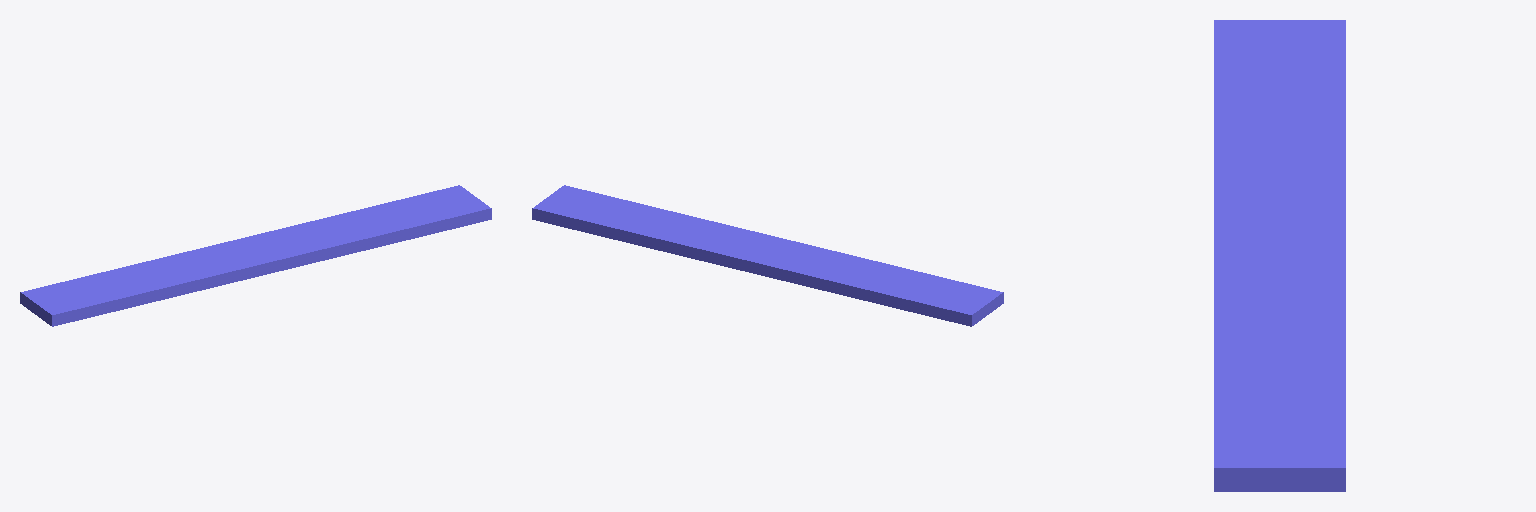
robot.urdf — incline_plane:
<?xml version="1.0"?>
<robot name="incline_plane">
  <link name="incline">
    <contact>
        <lateral_friction value="0.5"/>
        <contact_cfm value="0.0"/>
        <contact_erp value="1.0"/>
    </contact>
    <visual>
      <origin xyz="0 0 -0.05" rpy="0 0 0"/>
      <geometry>
        <box size="4 0.5 0.1"/>
      </geometry>
      <material name="blue">
       <color rgba="0.5 0.5 1 1"/>
     </material>
    </visual>
    <collision>
      <origin xyz="0 0 -0.05" rpy="0 0 0"/>
      <geometry>
        <box size="4 0.5 0.1"/>
      </geometry>
    </collision>
    <collision>
      <origin xyz="0 0 0" rpy="0 0 0"/>
      <geometry>
        <plane normal="0 0 1"/>
      </geometry>
    </collision>
  </link>
</robot>

--- What the picture shows (computed from the rendered views, not written in the file) ---
The picture shows the robot from 3 angles, left to right: view 1: azimuth 30°, elevation 25°; view 2: azimuth 150°, elevation 25°; view 3: azimuth 270°, elevation 25°; orthographic projection.
Robot: incline_plane — 1 links, 0 joints (none); root link incline; default pose: all joints at 0.
Links seen in each view (by area): view 1: incline; view 2: incline; view 3: incline.
Link boxes in pixels (left/top/right/bottom): incline: left=20, top=185, right=491, bottom=326; incline: left=532, top=185, right=1003, bottom=326; incline: left=1214, top=20, right=1345, bottom=491.
Size in the robot's own frame: 4 by 0.5 by 0.1 metres.
Geometry: primitives only (box / cylinder / sphere), no mesh files.